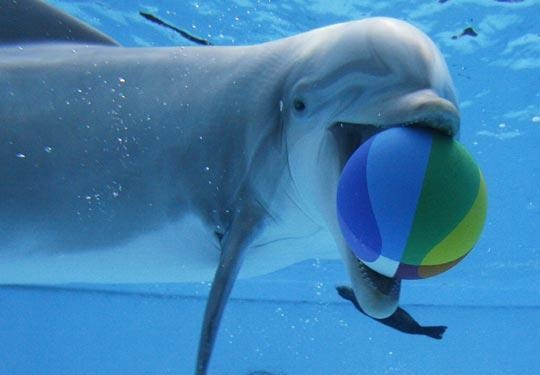fish: (1, 17, 483, 374)
